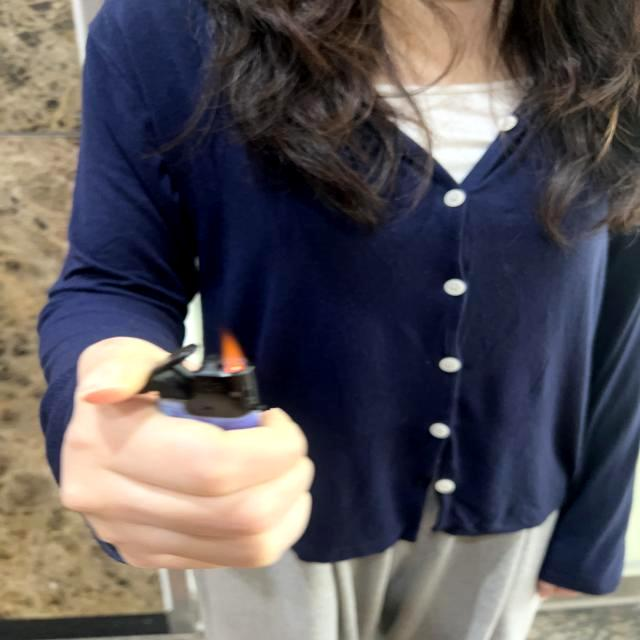fire: (214, 328, 250, 372)
